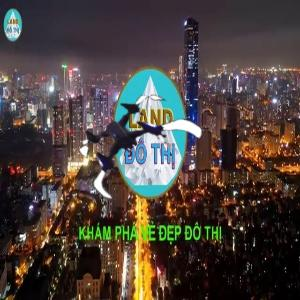drone: (70, 86, 190, 206)
